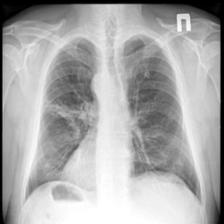tuberculosis: (21, 30, 205, 210)
